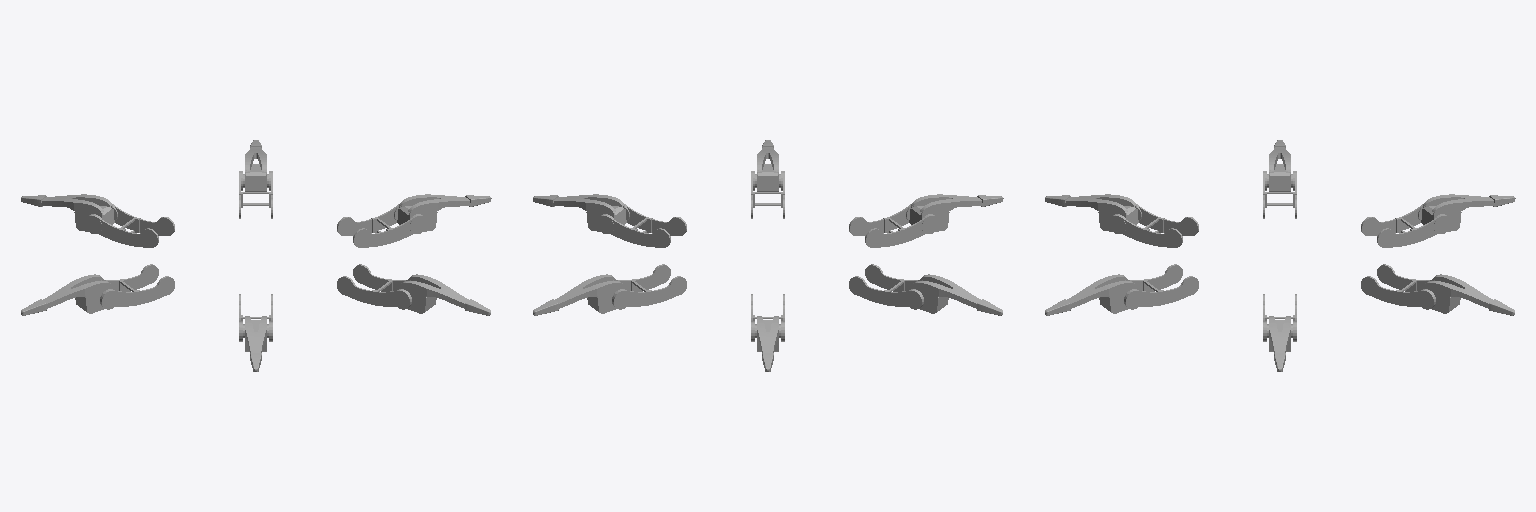
robot.urdf — hexapod:
<?xml version='1.0' encoding='utf-8'?>
<robot name="hexapod">

  <!-- COLOURS -->
  <material name="body">
    <color rgba="0.7 0.7 0.7 1" />
  </material>
  <material name="coxa">
    <color rgba="0.7 0.7 0.7 1" />
  </material>
  <material name="femur">
    <color rgba="0.7 0.7 0.7 1" />
  </material>
  <material name="tibia">
    <color rgba="0.7 0.7 0.7 1" />
  </material>

  <!-- BASE LINK -->
  <link name="base_link">
    <inertial>
      <origin rpy="0 0 0" xyz="0 0 -6.800E-4" />
      <mass value="1.320" />
      <inertia ixx="5.25450858E-3" ixy="0" ixz="-1.0E-11" iyy="5.25450858E-3" iyz="-1.3E-10" izz="1.014754381E-2" />
    </inertial>
    <visual>
      <origin rpy="0 0 0" xyz="0 0 0" />
      <geometry>
        <mesh filename="package://urdf/meshes/base_mesh.STL" />
      </geometry>
      <material name="body" />
    </visual>
    <collision>
      <origin rpy="0 0 0" xyz="0 0 0" />
      <geometry>
        <mesh filename="package://urdf/meshes/base_mesh.STL" />
      </geometry>
    </collision>
  </link>

  <link name="link_1_1">
    <inertial>
      <origin rpy="0 0 0" xyz="4.992E-2 -1.400E-4 1.457E-2" />
      <mass value="0.14645" />
      <inertia ixx="6.022825E-5" ixy="-6.480E-8" ixz="9.3057E-7" iyy="6.045029E-5" iyz="-3.6292E-7" izz="4.572503E-5" />
    </inertial>
    <visual>
      <origin rpy="0 0 0" xyz="0 0 0" />
      <geometry>
        <mesh filename="package://urdf/meshes/coxa_mesh.STL" />
      </geometry>
      <material name="coxa" />
    </visual>
    <collision>
      <origin rpy="0 0 0" xyz="0 0 0" />
      <geometry>
        <mesh filename="package://urdf/meshes/coxa_mesh.STL" />
      </geometry>
    </collision>
  </link>

  <joint name="joint_1_1" type="revolute">
    <origin rpy="0 0 0" xyz="0.12529 0 -0.014" />
    <parent link="base_link" />
    <child link="link_1_1" />
    <axis xyz="0 0 1" />
    <limit effort="3.464" lower="-1.745" upper="1.745" velocity="7.686" />
  </joint>

  <link name="link_1_2">
    <inertial>
      <origin rpy="0 0 0" xyz="5.478E-2 -3.960E-3 0" />
      <mass value="0.05752" />
      <inertia ixx="3.892883E-5" ixy="1.70637E-6" ixz="0" iyy="1.2476240E-4" iyz="0" izz="9.600355E-5" />
    </inertial>
    <visual>
      <origin rpy="0 0 0" xyz="0 0 0" />
      <geometry>
        <mesh filename="package://urdf/meshes/femur_mesh.STL" />
      </geometry>
      <material name="femur" />
    </visual>
    <collision>
      <origin rpy="0 0 0" xyz="0 0 0" />
      <geometry>
        <mesh filename="package://urdf/meshes/femur_mesh.STL" />
      </geometry>
    </collision>
  </link>

  <joint name="joint_1_2" type="revolute">
    <origin rpy="1.5707963267949 0 0" xyz="0.05317 0 0" />
    <parent link="link_1_1" />
    <child link="link_1_2" />
    <axis xyz="0 0 1" />
    <limit effort="5.194" lower="-2.618" upper="2.269" velocity="5.289" />
  </joint>

  <link name="link_1_3">
    <inertial>
      <origin rpy="0 0 0" xyz="3.309E-2 7.960E-3 -2.000E-05" />
      <mass value="0.15389" />
      <inertia ixx="3.190588E-5" ixy="1.070870E-5" ixz="-1.0337E-7" iyy="1.8900301E-4" iyz="4.968E-8" izz="1.9268424E-4" />
    </inertial>
    <visual>
      <origin rpy="0 0 0" xyz="0 0 0" />
      <geometry>
        <mesh filename="package://urdf/meshes/tibia_mesh.STL" />
      </geometry>
      <material name="tibia" />
    </visual>
    <collision>
      <origin rpy="0 0 0" xyz="0 0 0" />
      <geometry>
        <mesh filename="package://urdf/meshes/tibia_mesh.STL" />
      </geometry>
    </collision>
  </link>

  <joint name="joint_1_3" type="revolute">
    <origin rpy="0 0 0" xyz="0.10188 0 0" />
    <parent link="link_1_2" />
    <child link="link_1_3" />
    <axis xyz="0 0 1" />
    <limit effort="3.464" lower="-2.967" upper="2.269" velocity="7.686" />
  </joint>

  <link name="link_2_1">
    <inertial>
      <origin rpy="0 0 0" xyz="4.992E-2 -1.400E-4 1.457E-2" />
      <mass value="0.14645" />
      <inertia ixx="6.022825E-5" ixy="-6.480E-8" ixz="9.3057E-7" iyy="6.045029E-5" iyz="-3.6292E-7" izz="4.572503E-5" />
    </inertial>
    <visual>
      <origin rpy="0 0 0" xyz="0 0 0" />
      <geometry>
        <mesh filename="package://urdf/meshes/coxa_mesh.STL" />
      </geometry>
      <material name="coxa" />
    </visual>
    <collision>
      <origin rpy="0 0 0" xyz="0 0 0" />
      <geometry>
        <mesh filename="package://urdf/meshes/coxa_mesh.STL" />
      </geometry>
    </collision>
  </link>

  <joint name="joint_2_1" type="revolute">
    <origin rpy="0 0 1.047197551" xyz="0.062645 0.1085043228 -0.014" />
    <parent link="base_link" />
    <child link="link_2_1" />
    <axis xyz="0 0 1" />
    <limit effort="3.464" lower="-1.745" upper="1.745" velocity="7.686" />
  </joint>

  <link name="link_2_2">
    <inertial>
      <origin rpy="0 0 0" xyz="5.478E-2 -3.960E-3 0" />
      <mass value="0.05752" />
      <inertia ixx="3.892883E-5" ixy="1.70637E-6" ixz="0" iyy="1.2476240E-4" iyz="0" izz="9.600355E-5" />
    </inertial>
    <visual>
      <origin rpy="0 0 0" xyz="0 0 0" />
      <geometry>
        <mesh filename="package://urdf/meshes/femur_mesh.STL" />
      </geometry>
      <material name="femur" />
    </visual>
    <collision>
      <origin rpy="0 0 0" xyz="0 0 0" />
      <geometry>
        <mesh filename="package://urdf/meshes/femur_mesh.STL" />
      </geometry>
    </collision>
  </link>

  <joint name="joint_2_2" type="revolute">
    <origin rpy="1.5707963267949 0 0" xyz="0.05317 0 0" />
    <parent link="link_2_1" />
    <child link="link_2_2" />
    <axis xyz="0 0 1" />
    <limit effort="5.194" lower="-2.618" upper="2.269" velocity="5.289" />
  </joint>

  <link name="link_2_3">
    <inertial>
      <origin rpy="0 0 0" xyz="3.309E-2 7.960E-3 -2.000E-05" />
      <mass value="0.15389" />
      <inertia ixx="3.190588E-5" ixy="1.070870E-5" ixz="-1.0337E-7" iyy="1.8900301E-4" iyz="4.968E-8" izz="1.9268424E-4" />
    </inertial>
    <visual>
      <origin rpy="0 0 0" xyz="0 0 0" />
      <geometry>
        <mesh filename="package://urdf/meshes/tibia_mesh.STL" />
      </geometry>
      <material name="tibia" />
    </visual>
    <collision>
      <origin rpy="0 0 0" xyz="0 0 0" />
      <geometry>
        <mesh filename="package://urdf/meshes/tibia_mesh.STL" />
      </geometry>
    </collision>
  </link>

  <joint name="joint_2_3" type="revolute">
    <origin rpy="0 0 0" xyz="0.10188 0 0" />
    <parent link="link_2_2" />
    <child link="link_2_3" />
    <axis xyz="0 0 1" />
    <limit effort="3.464" lower="-2.967" upper="2.269" velocity="7.686" />
  </joint>

  <link name="link_3_1">
    <inertial>
      <origin rpy="0 0 0" xyz="4.992E-2 -1.400E-4 1.457E-2" />
      <mass value="0.14645" />
      <inertia ixx="6.022825E-5" ixy="-6.480E-8" ixz="9.3057E-7" iyy="6.045029E-5" iyz="-3.6292E-7" izz="4.572503E-5" />
    </inertial>
    <visual>
      <origin rpy="0 0 0" xyz="0 0 0" />
      <geometry>
        <mesh filename="package://urdf/meshes/coxa_mesh.STL" />
      </geometry>
      <material name="coxa" />
    </visual>
    <collision>
      <origin rpy="0 0 0" xyz="0 0 0" />
      <geometry>
        <mesh filename="package://urdf/meshes/coxa_mesh.STL" />
      </geometry>
    </collision>
  </link>

  <joint name="joint_3_1" type="revolute">
    <origin rpy="0 0 2.094395102" xyz="-0.062645 0.1085043228 -0.014" />
    <parent link="base_link" />
    <child link="link_3_1" />
    <axis xyz="0 0 1" />
    <limit effort="3.464" lower="-1.745" upper="1.745" velocity="7.686" />
  </joint>

  <link name="link_3_2">
    <inertial>
      <origin rpy="0 0 0" xyz="5.478E-2 -3.960E-3 0" />
      <mass value="0.05752" />
      <inertia ixx="3.892883E-5" ixy="1.70637E-6" ixz="0" iyy="1.2476240E-4" iyz="0" izz="9.600355E-5" />
    </inertial>
    <visual>
      <origin rpy="0 0 0" xyz="0 0 0" />
      <geometry>
        <mesh filename="package://urdf/meshes/femur_mesh.STL" />
      </geometry>
      <material name="femur" />
    </visual>
    <collision>
      <origin rpy="0 0 0" xyz="0 0 0" />
      <geometry>
        <mesh filename="package://urdf/meshes/femur_mesh.STL" />
      </geometry>
    </collision>
  </link>

  <joint name="joint_3_2" type="revolute">
    <origin rpy="1.5707963267949 0 0" xyz="0.05317 0 0" />
    <parent link="link_3_1" />
    <child link="link_3_2" />
    <axis xyz="0 0 1" />
    <limit effort="5.194" lower="-2.618" upper="2.269" velocity="5.289" />
  </joint>

  <link name="link_3_3">
    <inertial>
      <origin rpy="0 0 0" xyz="3.309E-2 7.960E-3 -2.000E-05" />
      <mass value="0.15389" />
      <inertia ixx="3.190588E-5" ixy="1.070870E-5" ixz="-1.0337E-7" iyy="1.8900301E-4" iyz="4.968E-8" izz="1.9268424E-4" />
    </inertial>
    <visual>
      <origin rpy="0 0 0" xyz="0 0 0" />
      <geometry>
        <mesh filename="package://urdf/meshes/tibia_mesh.STL" />
      </geometry>
      <material name="tibia" />
    </visual>
    <collision>
      <origin rpy="0 0 0" xyz="0 0 0" />
      <geometry>
        <mesh filename="package://urdf/meshes/tibia_mesh.STL" />
      </geometry>
    </collision>
  </link>

  <joint name="joint_3_3" type="revolute">
    <origin rpy="0 0 0" xyz="0.10188 0 0" />
    <parent link="link_3_2" />
    <child link="link_3_3" />
    <axis xyz="0 0 1" />
    <limit effort="3.464" lower="-2.967" upper="2.269" velocity="7.686" />
  </joint>

  <link name="link_4_1">
    <inertial>
      <origin rpy="0 0 0" xyz="4.992E-2 -1.400E-4 1.457E-2" />
      <mass value="0.14645" />
      <inertia ixx="6.022825E-5" ixy="-6.480E-8" ixz="9.3057E-7" iyy="6.045029E-5" iyz="-3.6292E-7" izz="4.572503E-5" />
    </inertial>
    <visual>
      <origin rpy="0 0 0" xyz="0 0 0" />
      <geometry>
        <mesh filename="package://urdf/meshes/coxa_mesh.STL" />
      </geometry>
      <material name="coxa" />
    </visual>
    <collision>
      <origin rpy="0 0 0" xyz="0 0 0" />
      <geometry>
        <mesh filename="package://urdf/meshes/coxa_mesh.STL" />
      </geometry>
    </collision>
  </link>

  <joint name="joint_4_1" type="revolute">
    <origin rpy="0 0 3.141592654" xyz="-0.12529 0 -0.014" />
    <parent link="base_link" />
    <child link="link_4_1" />
    <axis xyz="0 0 1" />
    <limit effort="3.464" lower="-1.745" upper="1.745" velocity="7.686" />
  </joint>

  <link name="link_4_2">
    <inertial>
      <origin rpy="0 0 0" xyz="5.478E-2 -3.960E-3 0" />
      <mass value="0.05752" />
      <inertia ixx="3.892883E-5" ixy="1.70637E-6" ixz="0" iyy="1.2476240E-4" iyz="0" izz="9.600355E-5" />
    </inertial>
    <visual>
      <origin rpy="0 0 0" xyz="0 0 0" />
      <geometry>
        <mesh filename="package://urdf/meshes/femur_mesh.STL" />
      </geometry>
      <material name="femur" />
    </visual>
    <collision>
      <origin rpy="0 0 0" xyz="0 0 0" />
      <geometry>
        <mesh filename="package://urdf/meshes/femur_mesh.STL" />
      </geometry>
    </collision>
  </link>

  <joint name="joint_4_2" type="revolute">
    <origin rpy="1.5707963267949 0 0" xyz="0.05317 0 0" />
    <parent link="link_4_1" />
    <child link="link_4_2" />
    <axis xyz="0 0 1" />
    <limit effort="5.194" lower="-2.618" upper="2.269" velocity="5.289" />
  </joint>

  <link name="link_4_3">
    <inertial>
      <origin rpy="0 0 0" xyz="3.309E-2 7.960E-3 -2.000E-05" />
      <mass value="0.15389" />
      <inertia ixx="3.190588E-5" ixy="1.070870E-5" ixz="-1.0337E-7" iyy="1.8900301E-4" iyz="4.968E-8" izz="1.9268424E-4" />
    </inertial>
    <visual>
      <origin rpy="0 0 0" xyz="0 0 0" />
      <geometry>
        <mesh filename="package://urdf/meshes/tibia_mesh.STL" />
      </geometry>
      <material name="tibia" />
    </visual>
    <collision>
      <origin rpy="0 0 0" xyz="0 0 0" />
      <geometry>
        <mesh filename="package://urdf/meshes/tibia_mesh.STL" />
      </geometry>
    </collision>
  </link>

  <joint name="joint_4_3" type="revolute">
    <origin rpy="0 0 0" xyz="0.10188 0 0" />
    <parent link="link_4_2" />
    <child link="link_4_3" />
    <axis xyz="0 0 1" />
    <limit effort="3.464" lower="-2.967" upper="2.269" velocity="7.686" />
  </joint>

  <link name="link_5_1">
    <inertial>
      <origin rpy="0 0 0" xyz="4.992E-2 -1.400E-4 1.457E-2" />
      <mass value="0.14645" />
      <inertia ixx="6.022825E-5" ixy="-6.480E-8" ixz="9.3057E-7" iyy="6.045029E-5" iyz="-3.6292E-7" izz="4.572503E-5" />
    </inertial>
    <visual>
      <origin rpy="0 0 0" xyz="0 0 0" />
      <geometry>
        <mesh filename="package://urdf/meshes/coxa_mesh.STL" />
      </geometry>
      <material name="coxa" />
    </visual>
    <collision>
      <origin rpy="0 0 0" xyz="0 0 0" />
      <geometry>
        <mesh filename="package://urdf/meshes/coxa_mesh.STL" />
      </geometry>
    </collision>
  </link>

  <joint name="joint_5_1" type="revolute">
    <origin rpy="0 0 -2.094395102" xyz="-0.062645 -0.1085043228 -0.014" />
    <parent link="base_link" />
    <child link="link_5_1" />
    <axis xyz="0 0 1" />
    <limit effort="3.464" lower="-1.745" upper="1.745" velocity="7.686" />
  </joint>

  <link name="link_5_2">
    <inertial>
      <origin rpy="0 0 0" xyz="5.478E-2 -3.960E-3 0" />
      <mass value="0.05752" />
      <inertia ixx="3.892883E-5" ixy="1.70637E-6" ixz="0" iyy="1.2476240E-4" iyz="0" izz="9.600355E-5" />
    </inertial>
    <visual>
      <origin rpy="0 0 0" xyz="0 0 0" />
      <geometry>
        <mesh filename="package://urdf/meshes/femur_mesh.STL" />
      </geometry>
      <material name="femur" />
    </visual>
    <collision>
      <origin rpy="0 0 0" xyz="0 0 0" />
      <geometry>
        <mesh filename="package://urdf/meshes/femur_mesh.STL" />
      </geometry>
    </collision>
  </link>

  <joint name="joint_5_2" type="revolute">
    <origin rpy="1.5707963267949 0 0" xyz="0.05317 0 0" />
    <parent link="link_5_1" />
    <child link="link_5_2" />
    <axis xyz="0 0 1" />
    <limit effort="5.194" lower="-2.618" upper="2.269" velocity="5.289" />
  </joint>

  <link name="link_5_3">
    <inertial>
      <origin rpy="0 0 0" xyz="3.309E-2 7.960E-3 -2.000E-05" />
      <mass value="0.15389" />
      <inertia ixx="3.190588E-5" ixy="1.070870E-5" ixz="-1.0337E-7" iyy="1.8900301E-4" iyz="4.968E-8" izz="1.9268424E-4" />
    </inertial>
    <visual>
      <origin rpy="0 0 0" xyz="0 0 0" />
      <geometry>
        <mesh filename="package://urdf/meshes/tibia_mesh.STL" />
      </geometry>
      <material name="tibia" />
    </visual>
    <collision>
      <origin rpy="0 0 0" xyz="0 0 0" />
      <geometry>
        <mesh filename="package://urdf/meshes/tibia_mesh.STL" />
      </geometry>
    </collision>
  </link>

  <joint name="joint_5_3" type="revolute">
    <origin rpy="0 0 0" xyz="0.10188 0 0" />
    <parent link="link_5_2" />
    <child link="link_5_3" />
    <axis xyz="0 0 1" />
    <limit effort="3.464" lower="-2.967" upper="2.269" velocity="7.686" />
  </joint>

  <link name="link_6_1">
    <inertial>
      <origin rpy="0 0 0" xyz="4.992E-2 -1.400E-4 1.457E-2" />
      <mass value="0.14645" />
      <inertia ixx="6.022825E-5" ixy="-6.480E-8" ixz="9.3057E-7" iyy="6.045029E-5" iyz="-3.6292E-7" izz="4.572503E-5" />
    </inertial>
    <visual>
      <origin rpy="0 0 0" xyz="0 0 0" />
      <geometry>
        <mesh filename="package://urdf/meshes/coxa_mesh.STL" />
      </geometry>
      <material name="coxa" />
    </visual>
    <collision>
      <origin rpy="0 0 0" xyz="0 0 0" />
      <geometry>
        <mesh filename="package://urdf/meshes/coxa_mesh.STL" />
      </geometry>
    </collision>
  </link>

  <joint name="joint_6_1" type="revolute">
    <origin rpy="0 0 -1.047197551" xyz="0.062645 -0.1085043228 -0.014" />
    <parent link="base_link" />
    <child link="link_6_1" />
    <axis xyz="0 0 1" />
    <limit effort="3.464" lower="-1.745" upper="1.745" velocity="7.686" />
  </joint>

  <link name="link_6_2">
    <inertial>
      <origin rpy="0 0 0" xyz="5.478E-2 -3.960E-3 0" />
      <mass value="0.05752" />
      <inertia ixx="3.892883E-5" ixy="1.70637E-6" ixz="0" iyy="1.2476240E-4" iyz="0" izz="9.600355E-5" />
    </inertial>
    <visual>
      <origin rpy="0 0 0" xyz="0 0 0" />
      <geometry>
        <mesh filename="package://urdf/meshes/femur_mesh.STL" />
      </geometry>
      <material name="femur" />
    </visual>
    <collision>
      <origin rpy="0 0 0" xyz="0 0 0" />
      <geometry>
        <mesh filename="package://urdf/meshes/femur_mesh.STL" />
      </geometry>
    </collision>
  </link>

  <joint name="joint_6_2" type="revolute">
    <origin rpy="1.5707963267949 0 0" xyz="0.05317 0 0" />
    <parent link="link_6_1" />
    <child link="link_6_2" />
    <axis xyz="0 0 1" />
    <limit effort="5.194" lower="-2.618" upper="2.269" velocity="5.289" />
  </joint>

  <link name="link_6_3">
    <inertial>
      <origin rpy="0 0 0" xyz="3.309E-2 7.960E-3 -2.000E-05" />
      <mass value="0.15389" />
      <inertia ixx="3.190588E-5" ixy="1.070870E-5" ixz="-1.0337E-7" iyy="1.8900301E-4" iyz="4.968E-8" izz="1.9268424E-4" />
    </inertial>
    <visual>
      <origin rpy="0 0 0" xyz="0 0 0" />
      <geometry>
        <mesh filename="package://urdf/meshes/tibia_mesh.STL" />
      </geometry>
      <material name="tibia" />
    </visual>
    <collision>
      <origin rpy="0 0 0" xyz="0 0 0" />
      <geometry>
        <mesh filename="package://urdf/meshes/tibia_mesh.STL" />
      </geometry>
    </collision>
  </link>

  <joint name="joint_6_3" type="revolute">
    <origin rpy="0 0 0" xyz="0.10188 0 0" />
    <parent link="link_6_2" />
    <child link="link_6_3" />
    <axis xyz="0 0 1" />
    <limit effort="3.464" lower="-2.967" upper="2.269" velocity="7.686" />
  </joint>

</robot>

--- Facts derived from the render (not from the file) ---
Views: 3 orthographic renders of the robot side by side, from view 1: azimuth 30°, elevation 25°; view 2: azimuth 150°, elevation 25°; view 3: azimuth 270°, elevation 25°.
Robot: hexapod — 19 links, 18 joints (18 revolute); root link base_link; default pose: all joints at 0.
Links seen in each view (by area): view 1: link_1_2, link_3_2, link_4_2, link_6_2, link_4_3, link_6_3, link_1_3, link_3_3, link_2_3, link_5_3; view 2: link_1_2, link_5_2, link_2_2, link_4_2, link_2_3, link_4_3, link_5_3, link_1_3, link_6_3, link_3_3; view 3: link_3_2, link_5_2, link_2_2, link_6_2, link_2_3, link_6_3, link_3_3, link_5_3, link_4_3, link_1_3.
Boxes of the visible links, x1,y1,x2,y2 form: link_1_2: (337,204,427,247); link_3_2: (84,204,174,247); link_4_2: (100,264,174,309); link_6_2: (337,264,411,309); link_4_3: (21,274,112,315); link_6_3: (399,274,490,315); link_1_3: (397,194,491,231); link_3_3: (21,194,114,231); link_2_3: (243,140,268,191); link_5_3: (243,316,268,371); link_1_2: (596,204,686,247); link_5_2: (849,204,939,247); link_2_2: (612,264,686,309); link_4_2: (849,264,923,309); link_2_3: (533,274,624,315); link_4_3: (911,274,1002,315); link_5_3: (909,194,1003,231); link_1_3: (533,194,626,231); link_6_3: (755,140,780,191); link_3_3: (755,316,780,371); link_3_2: (1361,204,1451,247); link_5_2: (1108,204,1198,247); link_2_2: (1361,264,1435,309); link_6_2: (1124,264,1198,309); link_2_3: (1423,274,1514,315); link_6_3: (1045,274,1136,315); link_3_3: (1421,194,1515,231); link_5_3: (1045,194,1138,231); link_4_3: (1267,140,1292,191); link_1_3: (1267,316,1292,371).
Size in the robot's own frame: 0.8554 by 0.7422 by 0.0494 metres.
Meshes: 4 distinct files referenced, 12 mesh visuals loaded (2 binary STL); not drawn: 7 (reference not matched to a file when rendering).